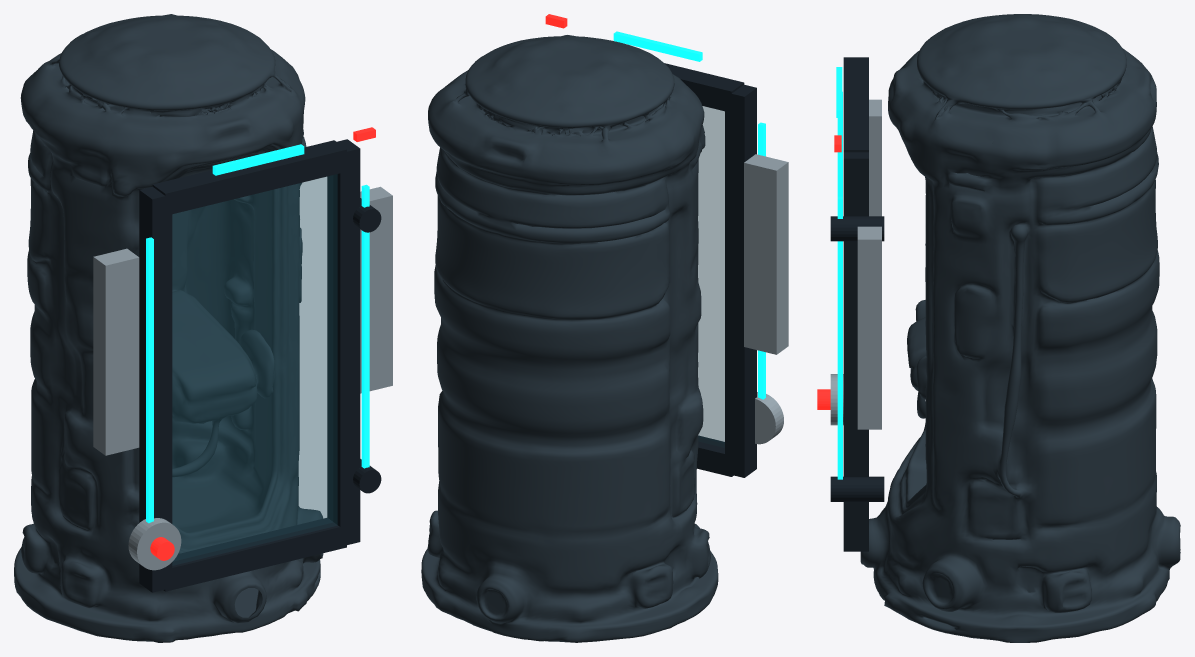
Rendered from Sector11_WakeCapsule_G0_RuntimeCandidate.glb.
3 views of the same model, side by side, from view 1: azimuth 30°, elevation 25°; view 2: azimuth 150°, elevation 25°; view 3: azimuth 270°, elevation 25° (orthographic). The views are drawn at different scales.
Parts seen in each view (by area): view 1: Sector11_WakeCapsule_RuntimeBody, WakeHatch_Glass, HatchFrame_Right, HatchFrame_Left, CeramicPanel_Left, HatchFrame_Bottom, HatchFrame_Top, CeramicPanel_Right, MedicalLight_Right, MedicalLight_Left, ReleaseWheel, StatusBar_Top (+2 smaller); view 2: Sector11_WakeCapsule_RuntimeBody, HatchFrame_Left, CeramicPanel_Left, WakeHatch_Glass, HatchFrame_Top, ReleaseWheel, HatchFrame_Bottom, StatusBar_Top, MedicalLight_Left; view 3: Sector11_WakeCapsule_RuntimeBody, HatchFrame_Right, CeramicPanel_Right, HatchFrame_Top, MedicalLight_Right, CeramicPanel_Left, HatchHinge, HatchHinge.001.
Boxes of the visible parts, box(x1,y1,x2,y2) form: Sector11_WakeCapsule_RuntimeBody: box(14, 14, 323, 642); WakeHatch_Glass: box(172, 174, 337, 565); HatchFrame_Right: box(327, 139, 360, 544); HatchFrame_Left: box(139, 187, 172, 592); CeramicPanel_Left: box(93, 248, 139, 455); HatchFrame_Bottom: box(163, 518, 346, 591); HatchFrame_Top: box(152, 140, 346, 215); CeramicPanel_Right: box(360, 186, 392, 393); MedicalLight_Right: box(361, 184, 369, 468); MedicalLight_Left: box(146, 237, 153, 523); ReleaseWheel: box(128, 518, 181, 570); StatusBar_Top: box(212, 144, 304, 175); Sector11_WakeCapsule_RuntimeBody: box(421, 35, 718, 642); HatchFrame_Left: box(725, 84, 756, 477); CeramicPanel_Left: box(744, 154, 788, 354); WakeHatch_Glass: box(698, 106, 724, 447); HatchFrame_Top: box(664, 63, 744, 111); ReleaseWheel: box(755, 392, 783, 444); HatchFrame_Bottom: box(697, 435, 733, 476); StatusBar_Top: box(613, 31, 702, 61); MedicalLight_Left: box(758, 122, 765, 399); Sector11_WakeCapsule_RuntimeBody: box(860, 14, 1180, 642); HatchFrame_Right: box(843, 152, 868, 551); CeramicPanel_Right: box(857, 226, 881, 429); HatchFrame_Top: box(843, 61, 868, 152); MedicalLight_Right: box(837, 196, 842, 479); CeramicPanel_Left: box(869, 99, 881, 216); HatchHinge: box(830, 476, 884, 501); HatchHinge.001: box(830, 216, 884, 241).
Bounding box in the file's own units: 1.36 × 2.45 × 1.49.
